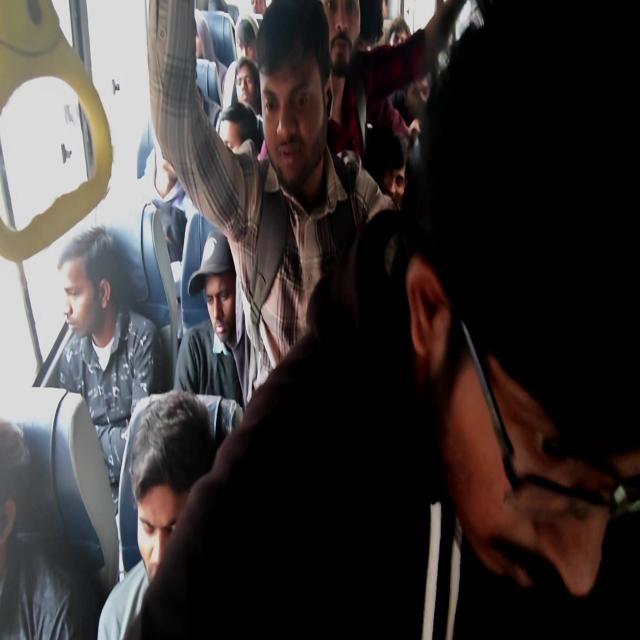person: (429, 60, 640, 599), (124, 434, 216, 605), (260, 22, 340, 202), (198, 240, 278, 360), (61, 251, 144, 354), (0, 423, 29, 566), (219, 107, 264, 195), (164, 11, 210, 55), (320, 0, 358, 52), (160, 98, 175, 221), (235, 14, 256, 62), (237, 66, 260, 107), (250, 2, 284, 26), (410, 87, 436, 117), (394, 24, 418, 56), (206, 0, 229, 18)
